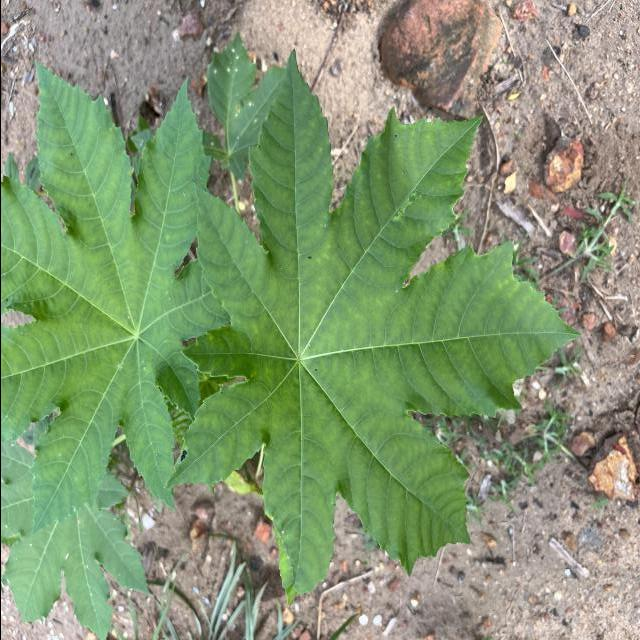Ricinus communis linn: (157, 43, 583, 610), (0, 55, 226, 545)
